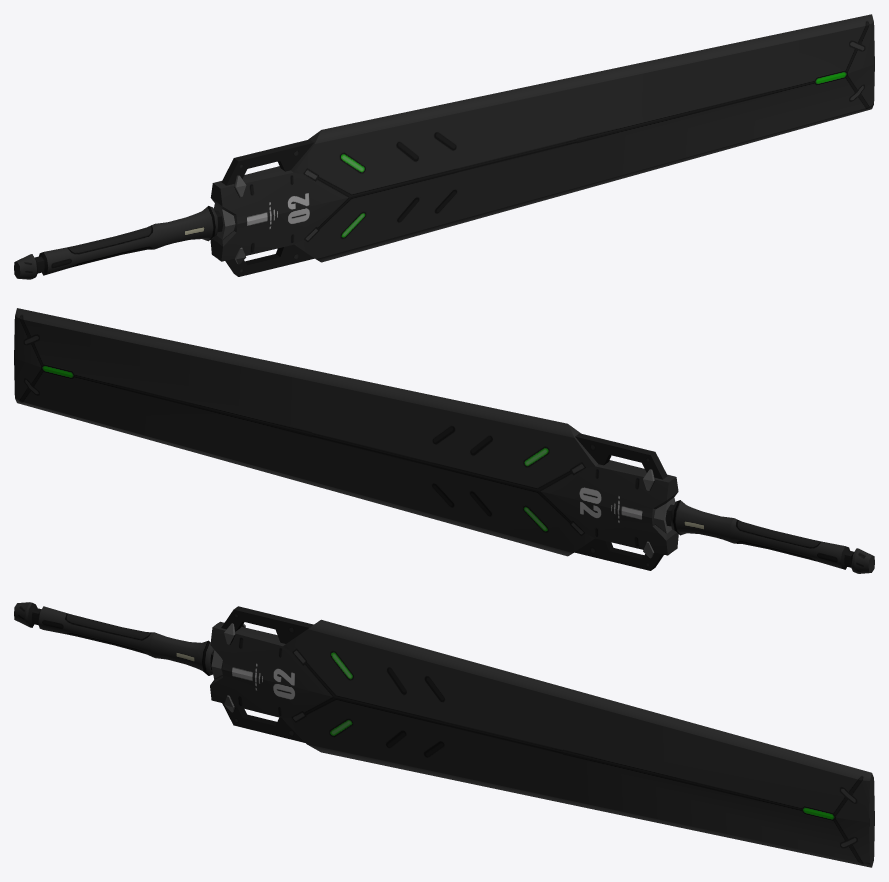
Rendered from E2ClaymoreMd060011.fbx.
The picture shows the model from 3 angles, top to bottom: view 1: azimuth 30°, elevation 25°; view 2: azimuth 150°, elevation 25°; view 3: azimuth 330°, elevation 25°; orthographic projection.
Parts seen in each view (by area): view 1: E2ClaymoreMd060011; view 2: E2ClaymoreMd060011; view 3: E2ClaymoreMd060011.
Boxes of the visible parts, <box> form: E2ClaymoreMd060011: <box>14,14,874,279</box>; E2ClaymoreMd060011: <box>14,308,874,573</box>; E2ClaymoreMd060011: <box>14,602,874,867</box>.
Size of the model in its own units: 1.83 by 0.272 by 0.058.
Materials: 1 (1 with a texture image).
